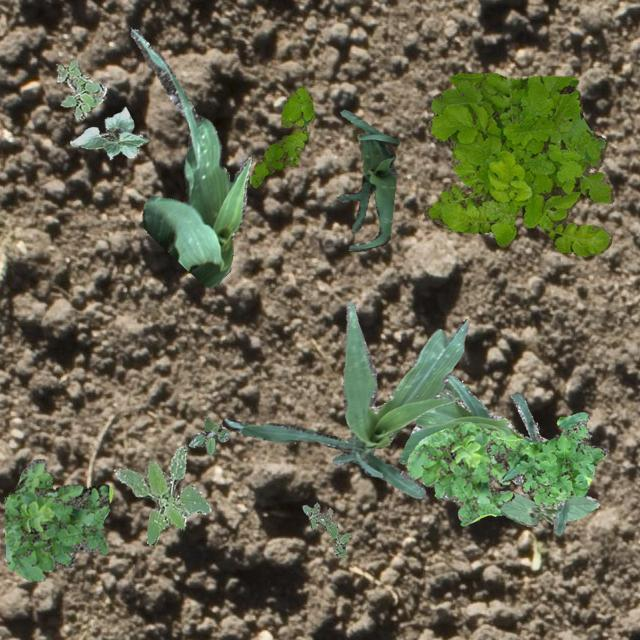crop: (220, 300, 468, 498), (130, 28, 250, 286), (398, 371, 568, 534), (336, 108, 398, 250), (68, 105, 148, 158), (498, 490, 598, 526)
weed: (422, 72, 612, 256), (3, 458, 112, 580), (486, 412, 606, 506), (406, 422, 514, 524), (112, 444, 210, 544), (248, 85, 314, 186), (56, 58, 106, 120), (302, 502, 351, 556), (188, 416, 228, 454)
